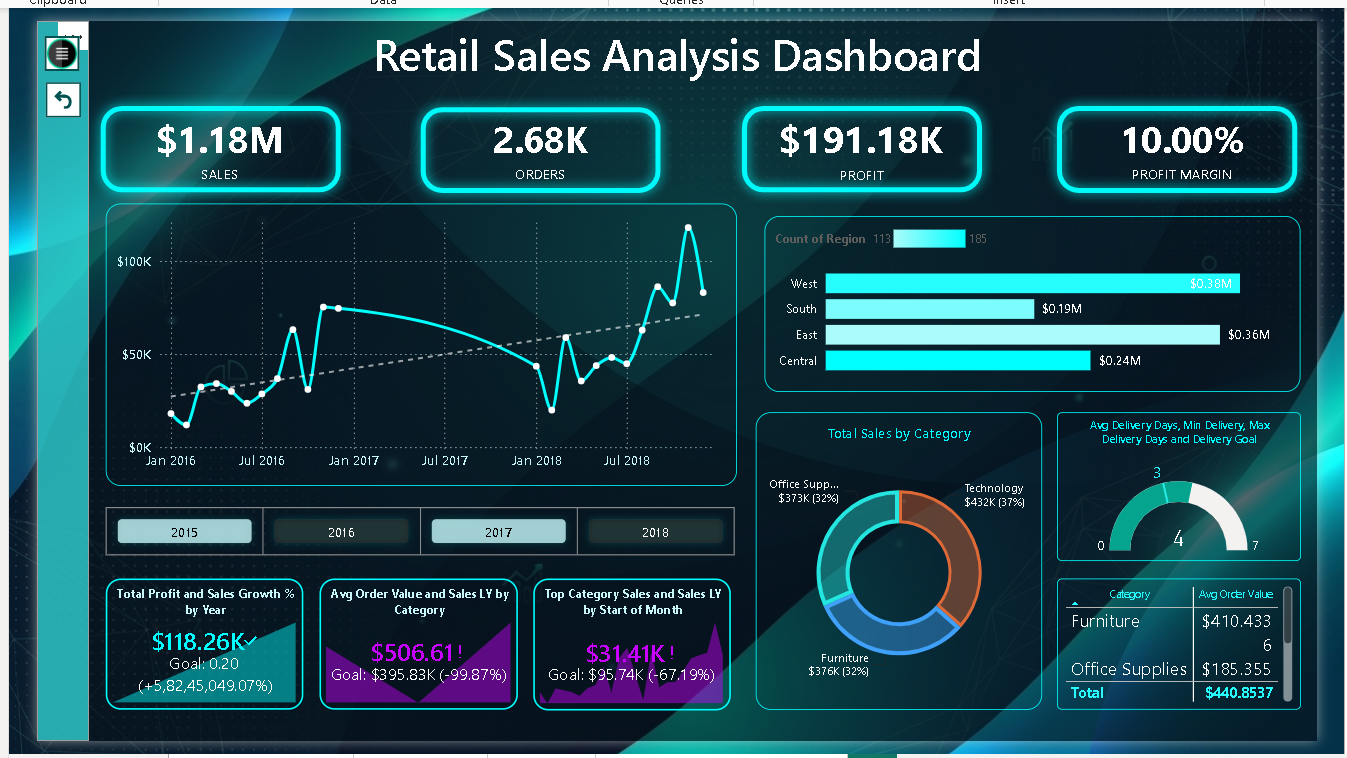

The dashboard page shown, as its layout file describes it:
{"tool":"powerbi","page":{"name":"Executive Overview","canvas":[1280,720],"ordinal":0},"visuals":[{"type":"shape","title":"Short Menu","box":[0,0,51.9,719.5],"z":0,"group":"g7"},{"type":"cardVisual","title":"Sales KPI","fields":{"Data":["_Measures.Total Sales"]},"box":[68.7,61.2,228.8,133.8],"z":0,"group":"g3"},{"type":"group","id":"g1","title":"Holders","box":[52.5,73.3,1219.5,109.3],"z":0,"group":"g6"},{"type":"shape","title":"Holder","box":[373,74.3,262.2,108.1],"z":0,"group":"g1"},{"type":"lineChart","fields":{"Category":["DimDate.Start of Month"],"Y":["_Measures.Total Sales"]},"box":[68.8,182.5,631.2,282.5],"z":0,"group":"g5"},{"type":"group","id":"g2","title":"Bottom Right","box":[718.8,391.2,545,297.5],"z":0},{"type":"tableEx","fields":{"Values":["DimProduct.Category","_Measures.Avg Order Value"]},"box":[1020,557.4,243.8,131.2],"z":0,"group":"g2"},{"type":"kpi","fields":{"Goal":["_Measures.Sales LY"],"Indicator":["_Measures.Avg Order Value"],"TrendLine":["DimProduct.Category"]},"box":[281.9,557.5,198.8,131.2],"z":0,"group":"g4"},{"type":"actionButton","title":"Menu Button","box":[7.8,15.6,35,35],"z":1000,"group":"g7"},{"type":"group","id":"g3","title":"Top","box":[68.7,61.2,1176.2,133.8],"z":1000,"group":"g6"},{"type":"cardVisual","title":"Orders KPI","fields":{"Data":["_Measures.Total Orders"]},"box":[404.9,61.2,197.5,133.8],"z":1000,"group":"g3"},{"type":"shape","title":"Holder","box":[52.5,73.7,262.5,108.8],"z":1000,"group":"g1"},{"type":"donutChart","fields":{"Category":["DimProduct.Category"],"Y":["_Measures.Total Sales"]},"box":[718.8,391.2,286.2,297.5],"z":1000,"group":"g2"},{"type":"advancedSlicerVisual","title":"Year Slicer","fields":{"Values":["DimDate.Year"]},"box":[68.8,486.3,631.2,48.8],"z":1000,"group":"g5"},{"type":"group","id":"g4","title":"Bottom left KPI cards","box":[68.8,557.3,624.6,132],"z":1000},{"type":"kpi","fields":{"Goal":["_Measures.Sales Growth %"],"Indicator":["_Measures.Total Profit"],"TrendLine":["DimDate.Year"]},"box":[68.8,557.5,197.5,131.2],"z":1000,"group":"g4"},{"type":"actionButton","title":"Reset Button","box":[9.1,61,35.1,35.1],"z":2000,"group":"g7"},{"type":"cardVisual","title":"Profit KPI","fields":{"Data":["_Measures.Total Profit"]},"box":[708.7,61.2,232.5,133.8],"z":2000,"group":"g3"},{"type":"shape","title":"Holder","box":[693.3,73.7,262.5,108.8],"z":2000,"group":"g1"},{"type":"barChart","fields":{"Category":["DimLocation.Location Hierarchy.Region","DimLocation.Location Hierarchy.State","DimLocation.Location Hierarchy.City"],"Y":["_Measures.Total Sales"]},"box":[727.5,195,536.2,176.2],"z":2000},{"type":"gauge","fields":{"MaxValue":["_Measures.Max Delivery"],"MinValue":["_Measures.Min Delivery"],"TargetValue":["_Measures.Delivery Goal"],"Y":["_Measures.Avg Delivery Days"]},"box":[1020,391.2,243.8,148.8],"z":2000,"group":"g2"},{"type":"kpi","fields":{"Goal":["_Measures.Sales LY"],"Indicator":["_Measures.Top Category Sales"],"TrendLine":["DimDate.Start of Month"]},"box":[496,557.3,197.3,132],"z":2000,"group":"g4"},{"type":"cardVisual","title":"Profit Margin KPI","fields":{"Data":["_Measures.Profit Margin"]},"box":[1046.2,61.2,198.8,133.8],"z":3000,"group":"g3"},{"type":"shape","title":"Holder","box":[1009.3,73.3,262.7,109.3],"z":3000,"group":"g1"},{"type":"group","id":"g5","title":"Left middle (Chart+Slicer)","box":[68.8,182.5,631.2,352.5],"z":3000},{"type":"group","id":"g6","title":"Top KPIs","box":[52.5,61.2,1219.5,133.8],"z":4000},{"type":"textbox","title":"Title","box":[0,0,1280,73.8],"z":5000},{"type":"group","id":"g7","title":"Small Navbar","box":[0,0,51.9,719.5],"z":6000}]}

Visuals, with their boxes on the page's 1280x720 design canvas (x1, y1, x2, y2). These are canvas units, not pixel positions in the 1347x758 screenshot, which may show the page scaled, cropped or inside an application window:
"Short Menu" shape: [left=0, top=0, right=52, bottom=720]
"Sales KPI" cardVisual: [left=69, top=61, right=298, bottom=195]
"Holders" group: [left=52, top=73, right=1272, bottom=183]
"Holder" shape: [left=373, top=74, right=635, bottom=182]
lineChart - DimDate.Start of Month x _Measures.Total Sales: [left=69, top=182, right=700, bottom=465]
"Bottom Right" group: [left=719, top=391, right=1264, bottom=689]
tableEx - DimProduct.Category x _Measures.Avg Order Value: [left=1020, top=557, right=1264, bottom=689]
kpi - _Measures.Sales LY x _Measures.Avg Order Value: [left=282, top=558, right=481, bottom=689]
"Menu Button" actionButton: [left=8, top=16, right=43, bottom=51]
"Top" group: [left=69, top=61, right=1245, bottom=195]
"Orders KPI" cardVisual: [left=405, top=61, right=602, bottom=195]
"Holder" shape: [left=52, top=74, right=315, bottom=182]
donutChart - DimProduct.Category x _Measures.Total Sales: [left=719, top=391, right=1005, bottom=689]
"Year Slicer" advancedSlicerVisual: [left=69, top=486, right=700, bottom=535]
"Bottom left KPI cards" group: [left=69, top=557, right=693, bottom=689]
kpi - _Measures.Sales Growth % x _Measures.Total Profit: [left=69, top=558, right=266, bottom=689]
"Reset Button" actionButton: [left=9, top=61, right=44, bottom=96]
"Profit KPI" cardVisual: [left=709, top=61, right=941, bottom=195]
"Holder" shape: [left=693, top=74, right=956, bottom=182]
barChart - DimLocation.Location Hierarchy.Region x DimLocation.Location Hierarchy.State: [left=728, top=195, right=1264, bottom=371]
gauge - _Measures.Max Delivery x _Measures.Min Delivery: [left=1020, top=391, right=1264, bottom=540]
kpi - _Measures.Sales LY x _Measures.Top Category Sales: [left=496, top=557, right=693, bottom=689]
"Profit Margin KPI" cardVisual: [left=1046, top=61, right=1245, bottom=195]
"Holder" shape: [left=1009, top=73, right=1272, bottom=183]
"Left middle (Chart+Slicer)" group: [left=69, top=182, right=700, bottom=535]
"Top KPIs" group: [left=52, top=61, right=1272, bottom=195]
"Title" textbox: [left=0, top=0, right=1280, bottom=74]
"Small Navbar" group: [left=0, top=0, right=52, bottom=720]
